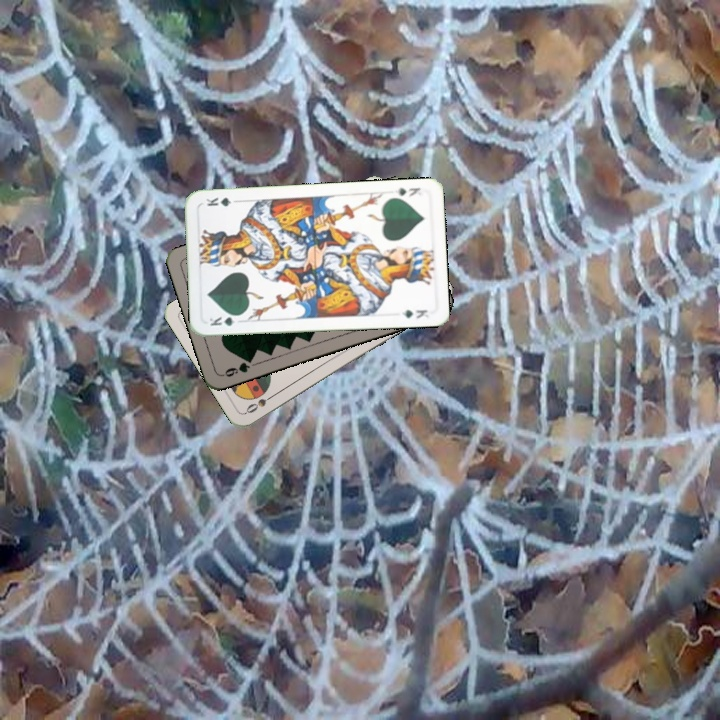G9: (219, 354, 256, 380)
GK: (205, 311, 244, 329), (391, 184, 423, 199)
SO: (242, 389, 278, 416)
